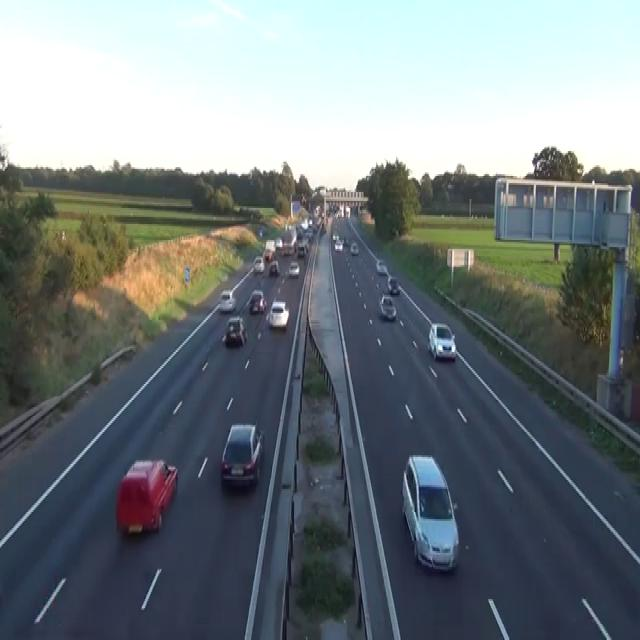Car: (401, 453, 459, 572), (115, 457, 178, 535), (220, 421, 264, 487), (427, 322, 456, 361), (224, 316, 247, 345), (267, 299, 289, 327), (379, 293, 396, 320), (248, 290, 266, 313), (219, 290, 236, 311), (387, 276, 399, 294), (288, 260, 299, 278), (253, 256, 264, 274), (375, 258, 386, 274), (268, 260, 279, 276), (54, 229, 66, 242), (296, 242, 306, 256), (258, 224, 268, 236), (334, 238, 343, 251), (350, 242, 358, 254), (275, 236, 282, 249), (332, 233, 339, 242), (342, 237, 348, 246), (321, 224, 326, 233), (307, 217, 312, 226), (259, 228, 262, 236)
